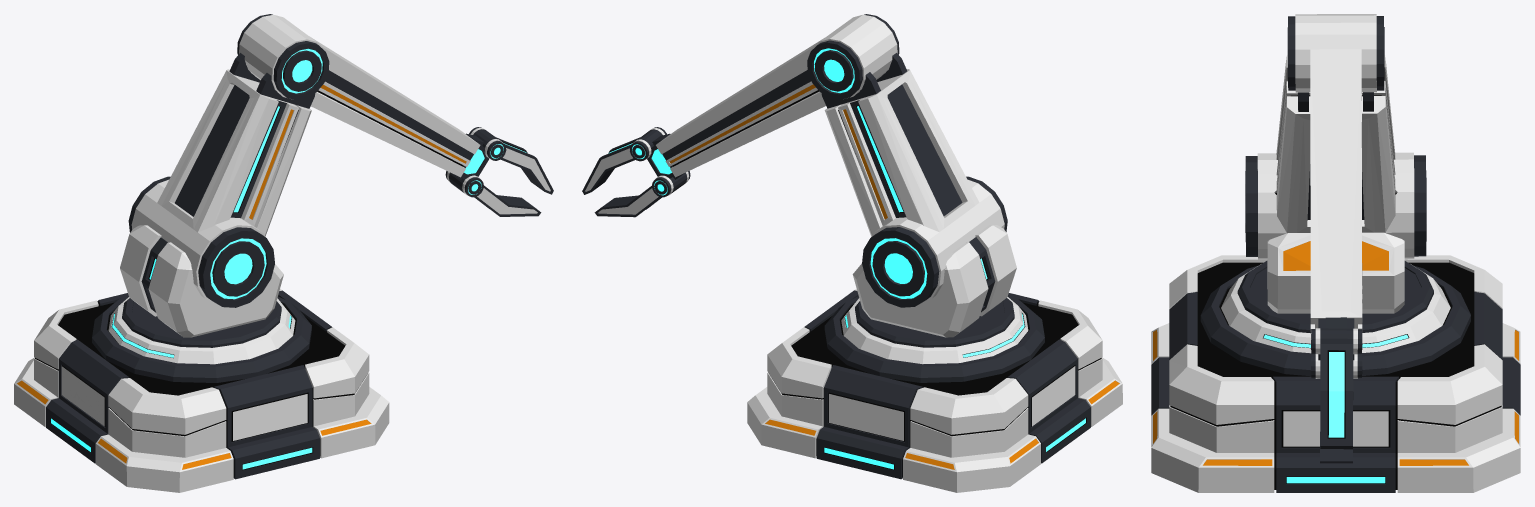
Rendered from SM_RoboticArm_Claw.fbx.
3 views of the same model, side by side, from view 1: azimuth 30°, elevation 25°; view 2: azimuth 150°, elevation 25°; view 3: azimuth 270°, elevation 25° (orthographic). The views are drawn at different scales.
Visible parts, largest first — view 1: SM_RoboticArm_Base, SM_RoboticArm_LowerArm, SM_RoboticArm_Rotator, SM_RoboticArm_UpperArm, SM_RoboticArm_ClawFinger_A, SM_RoboticArm_ClawFinger_B; view 2: SM_RoboticArm_Base, SM_RoboticArm_LowerArm, SM_RoboticArm_Rotator, SM_RoboticArm_UpperArm, SM_RoboticArm_ClawFinger_A, SM_RoboticArm_ClawFinger_B; view 3: SM_RoboticArm_Base, SM_RoboticArm_Rotator, SM_RoboticArm_UpperArm, SM_RoboticArm_LowerArm, SM_RoboticArm_ClawFinger_A, SM_RoboticArm_ClawFinger_B.
Part boxes in pixels (x1,y1,x2,y2): SM_RoboticArm_Base: (14,289,389,492); SM_RoboticArm_LowerArm: (128,53,315,307); SM_RoboticArm_Rotator: (92,225,311,382); SM_RoboticArm_UpperArm: (237,14,488,179); SM_RoboticArm_ClawFinger_A: (469,127,553,194); SM_RoboticArm_ClawFinger_B: (445,171,541,216); SM_RoboticArm_Base: (747,288,1122,492); SM_RoboticArm_LowerArm: (821,53,1007,307); SM_RoboticArm_Rotator: (824,225,1044,382); SM_RoboticArm_UpperArm: (647,14,899,179); SM_RoboticArm_ClawFinger_A: (582,127,666,194); SM_RoboticArm_ClawFinger_B: (594,171,690,217); SM_RoboticArm_Base: (1151,255,1520,492); SM_RoboticArm_Rotator: (1200,232,1470,376); SM_RoboticArm_UpperArm: (1287,14,1384,360); SM_RoboticArm_LowerArm: (1245,55,1426,259); SM_RoboticArm_ClawFinger_A: (1311,328,1362,449); SM_RoboticArm_ClawFinger_B: (1311,353,1362,463).
Size of the model in its own units: 134 by 98.28 by 73.84.
